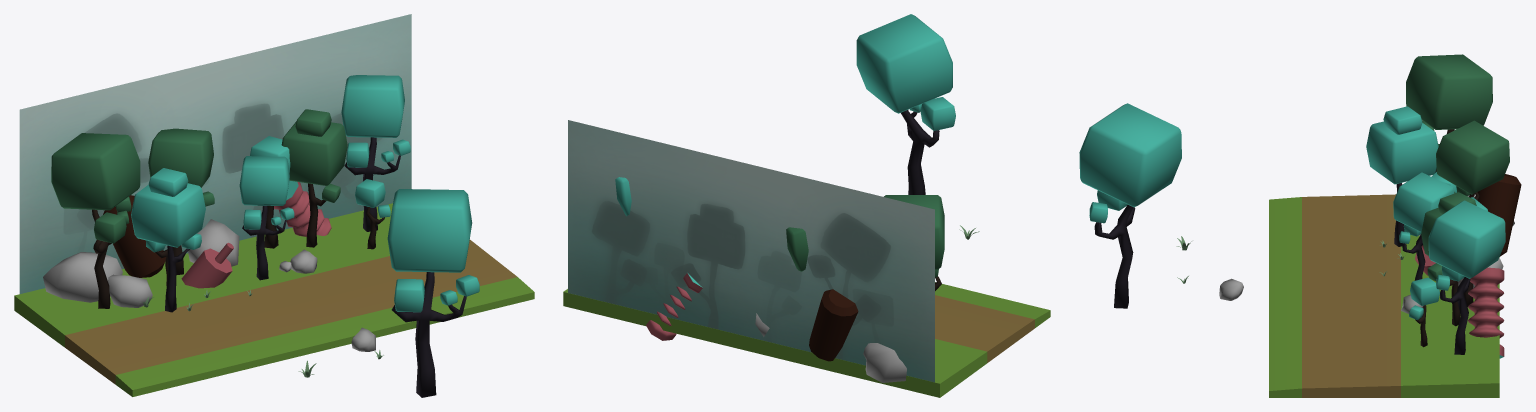
The model's file is BackGround.fbx.
3 renders of one model, left to right at view 1: azimuth 30°, elevation 25°; view 2: azimuth 150°, elevation 25°; view 3: azimuth 270°, elevation 25°, orthographic. The views are drawn at different scales.
Parts seen in each view (by area): view 1: Plane002; view 2: Plane002; view 3: Plane002.
Boxes of the visible parts, x1=… form: Plane002: x1=14, y1=14, x2=534, y2=397; Plane002: x1=563, y1=14, x2=1050, y2=397; Plane002: x1=1079, y1=54, x2=1521, y2=397.
Bounding box in the file's own units: 316 × 161 × 308.
